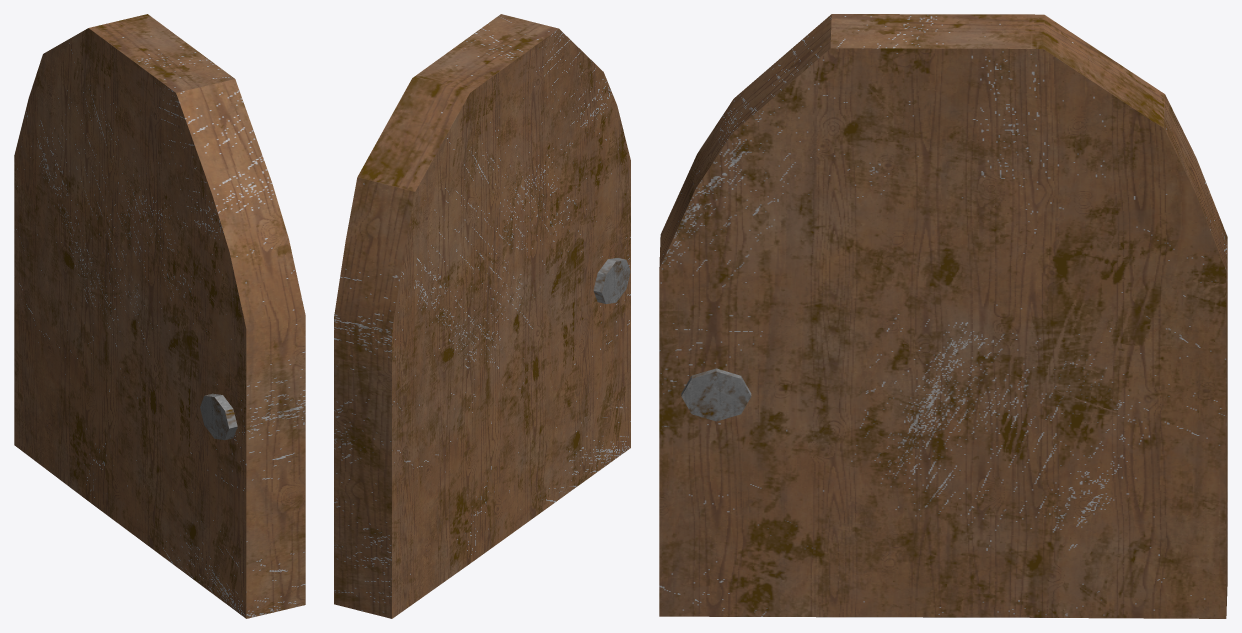
Rendered from Puerta.fbx.
3 views of the same model, side by side, from view 1: azimuth 30°, elevation 25°; view 2: azimuth 150°, elevation 25°; view 3: azimuth 270°, elevation 25° (orthographic). The views are drawn at different scales.
Parts seen in each view (by area): view 1: Puerta.001; view 2: Puerta.001; view 3: Puerta.001.
Part boxes in pixels (<box>): Puerta.001: <box>14,14,305,618</box>; Puerta.001: <box>334,14,630,618</box>; Puerta.001: <box>659,14,1227,618</box>.
Size of the model in its own units: 69.36 by 424 by 384.
1 material, 1 textured.
